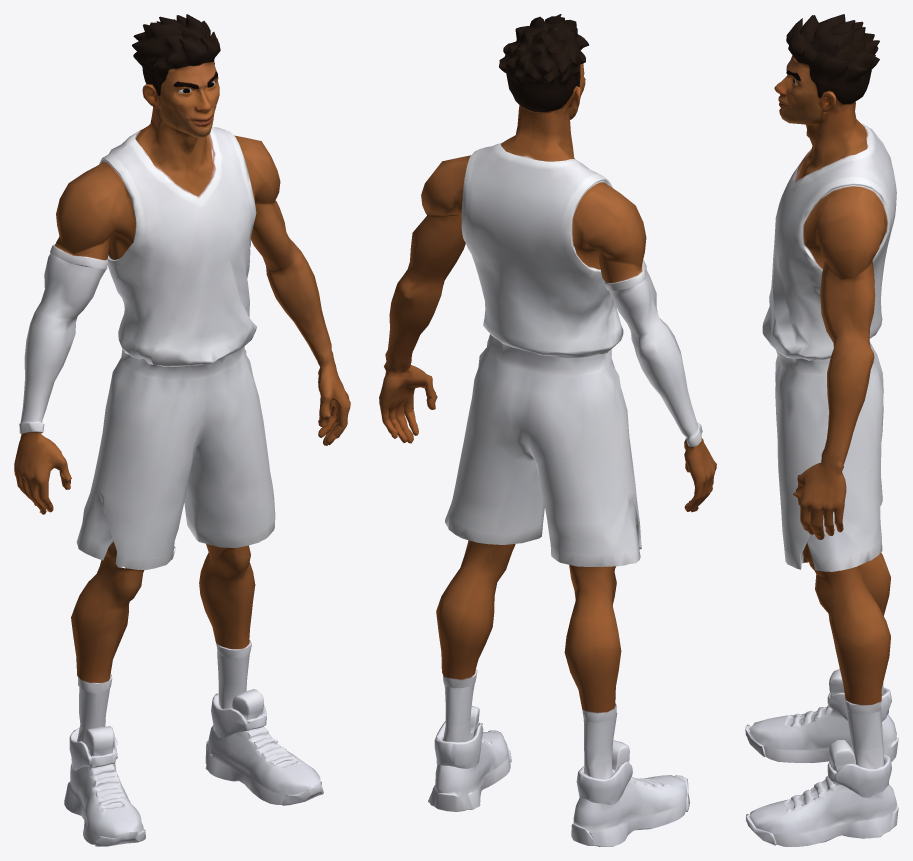
The model's file is sniper.glb.
3 views of the same model, side by side, from view 1: azimuth 30°, elevation 25°; view 2: azimuth 150°, elevation 25°; view 3: azimuth 270°, elevation 25° (orthographic).
Parts seen in each view (by area): view 1: geometry_0; view 2: geometry_0; view 3: geometry_0.
Boxes of the visible parts, x1,y1,x2,y2 form: geometry_0: (14, 14, 350, 846); geometry_0: (379, 14, 716, 846); geometry_0: (745, 14, 898, 846).
Bounding box in the file's own units: 0.4116 × 0.9502 × 0.1699.
Materials: 1 (1 with a texture image).
